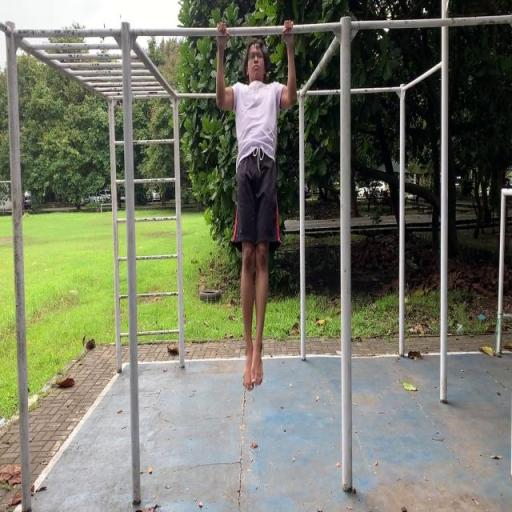Normal_BrenchPress: (215, 18, 297, 392)
